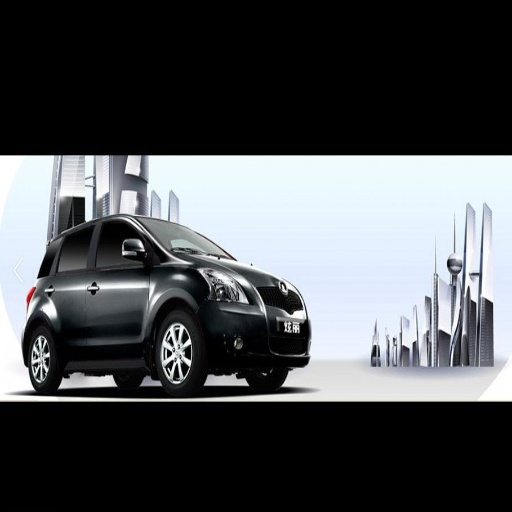front_bumper: (204, 284, 311, 363)
front_right_door: (86, 218, 149, 344)
